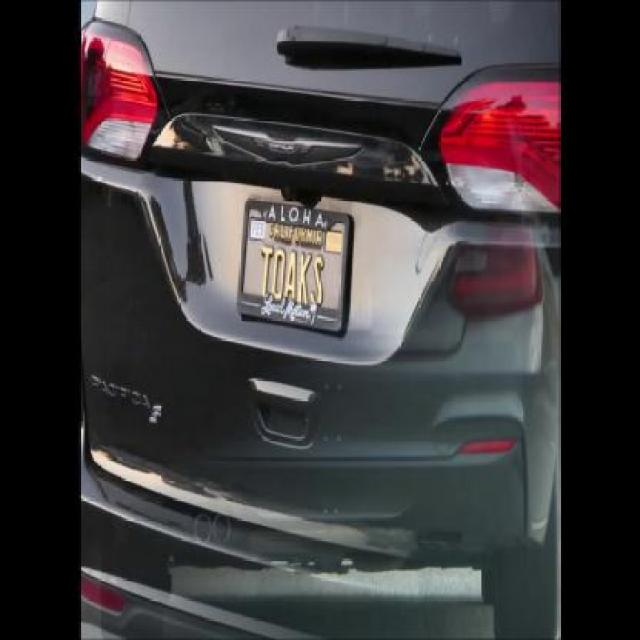licenseplate: (235, 190, 348, 324)
